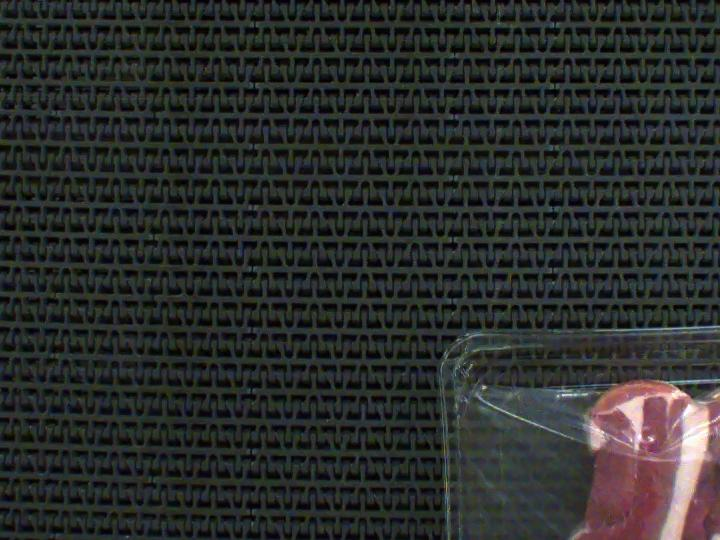unsealed: (486, 398, 720, 540)
